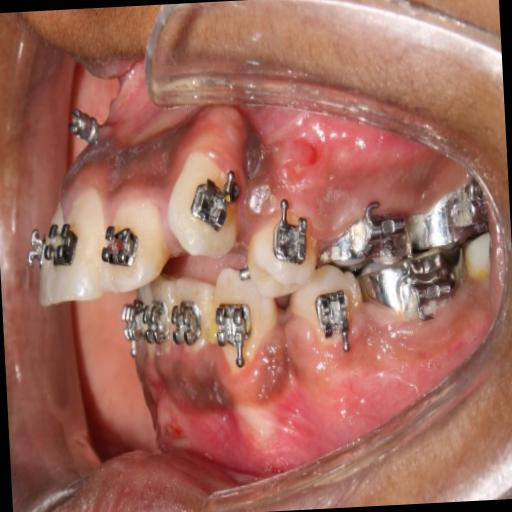correct_brace: (249, 183, 314, 303), (294, 276, 362, 364), (188, 168, 239, 244), (100, 209, 148, 289), (308, 284, 354, 352)
incorrect_brace: (96, 182, 168, 296), (266, 194, 310, 276)
